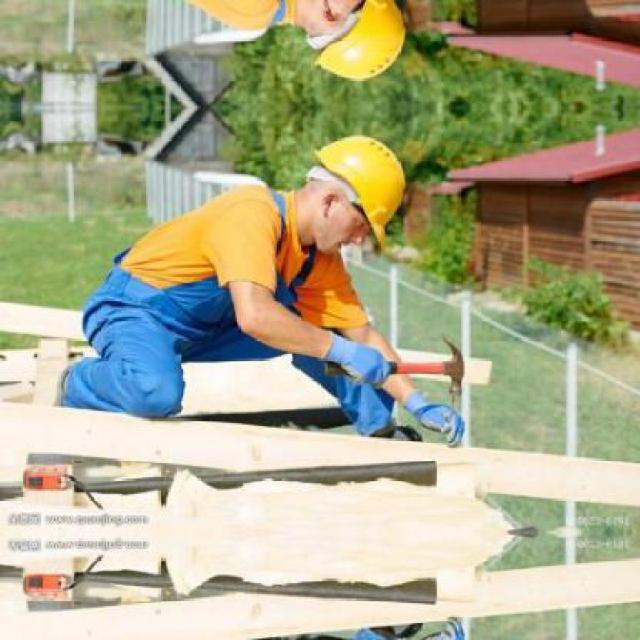helmet: (298, 135, 412, 259), (298, 0, 413, 78)
